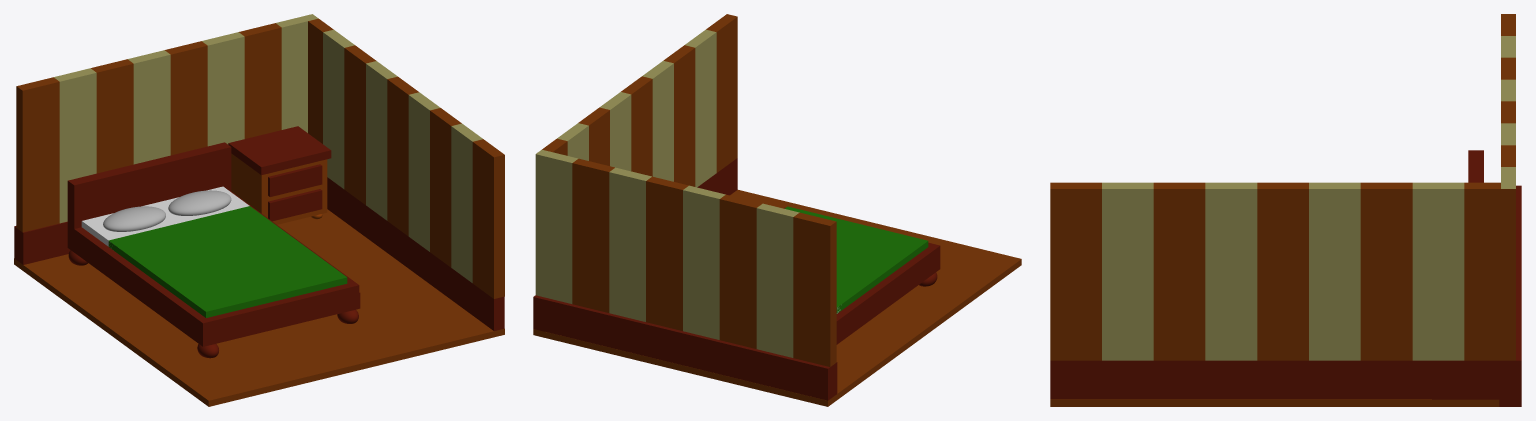
3 views of the same model, side by side, from view 1: azimuth 30°, elevation 25°; view 2: azimuth 150°, elevation 25°; view 3: azimuth 270°, elevation 25° (orthographic). The views are drawn at different scales.
Visible parts, largest first — view 1: Geode; view 2: Geode; view 3: Geode.
Boxes of the visible parts, x1,y1,x2,y2 form: Geode: (14,14,504,406); Geode: (533,14,1021,406); Geode: (1050,14,1521,406).
Bounding box in the file's own units: 72.64 × 42.2 × 82.74.
